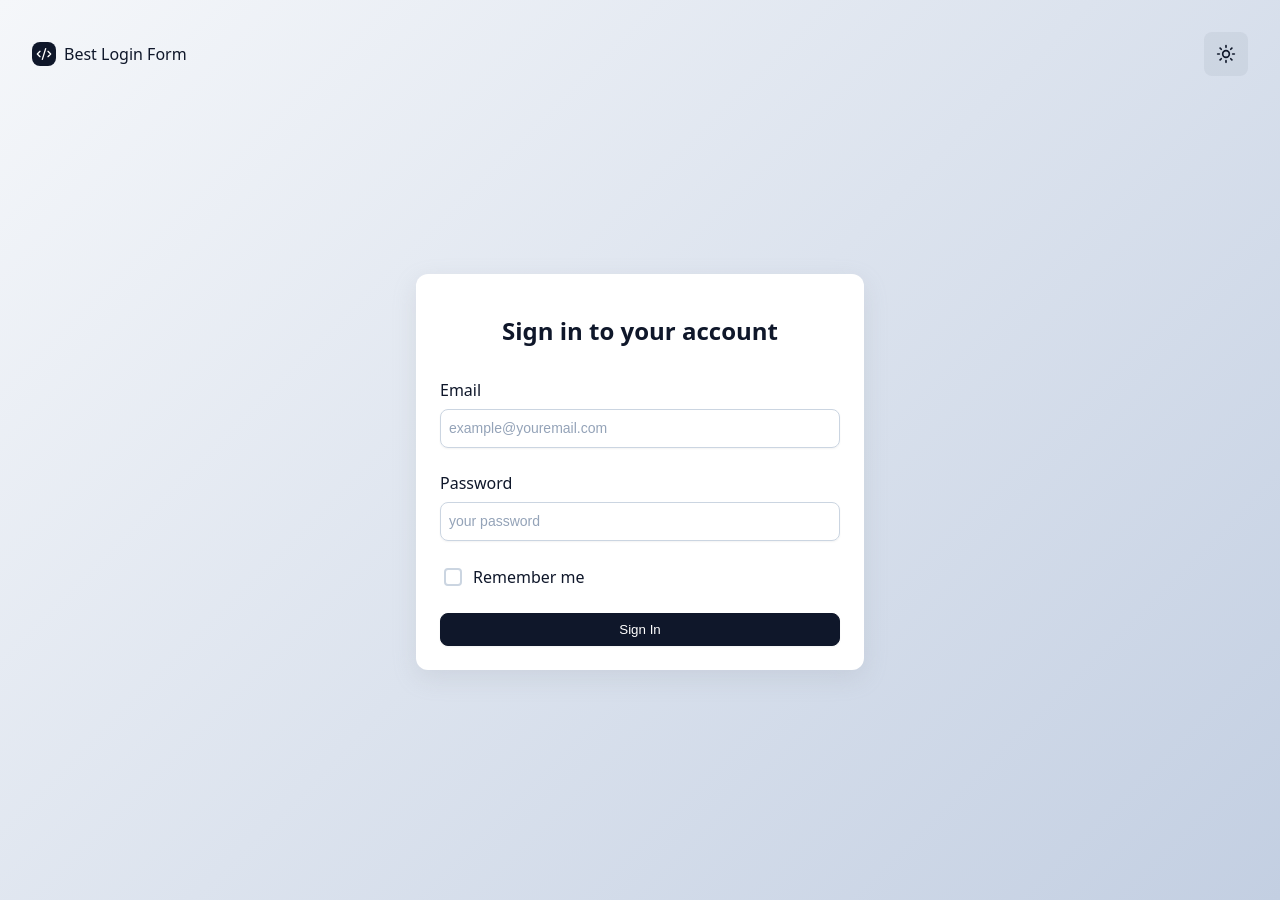
it: LoginPage › displays API error when login fails
Type "test@example.com" into the field labelled "Email" at (640, 429), box [440,409,840,448]
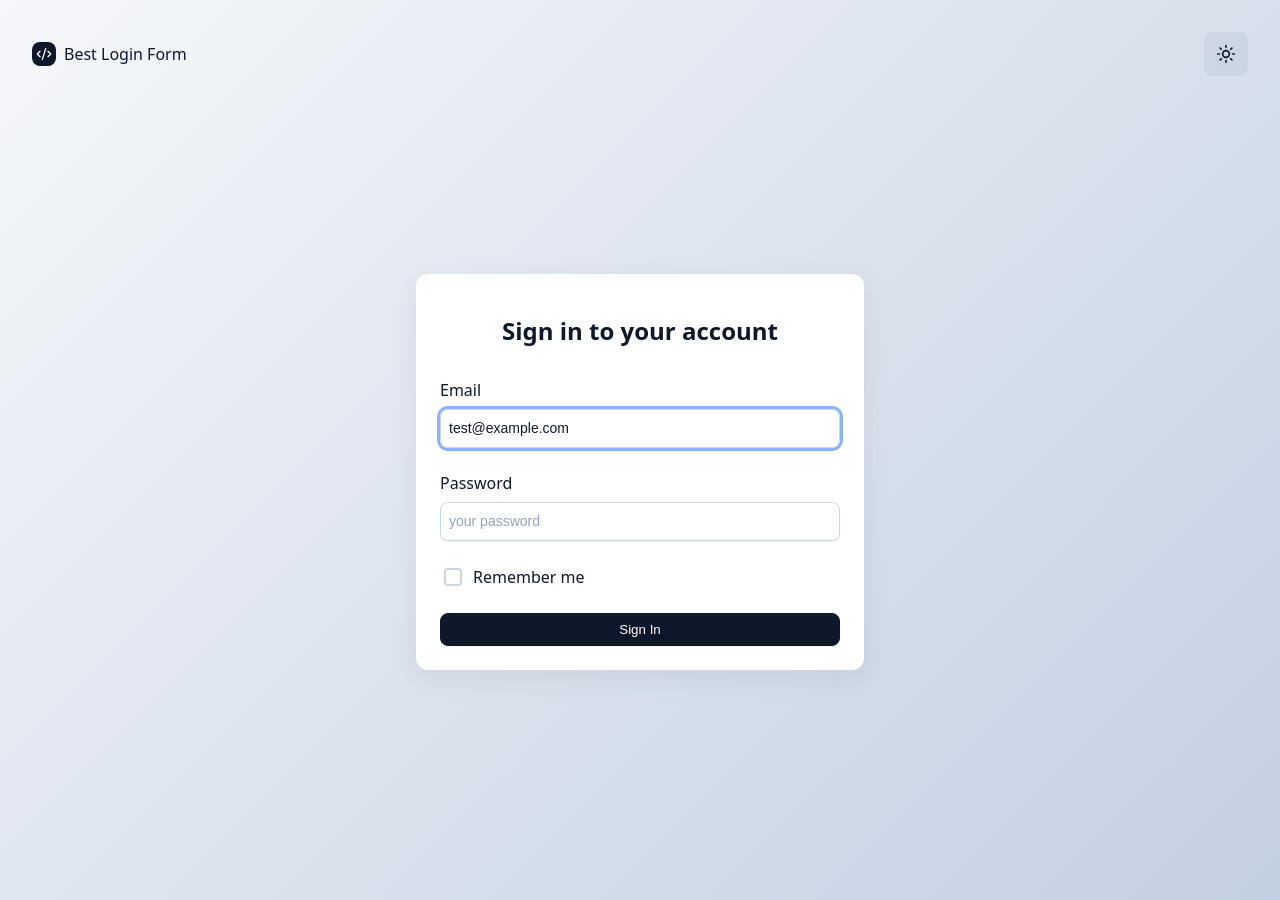
Type "wrong" into the password field labelled "Password" at (640, 522), box [440,502,840,541]
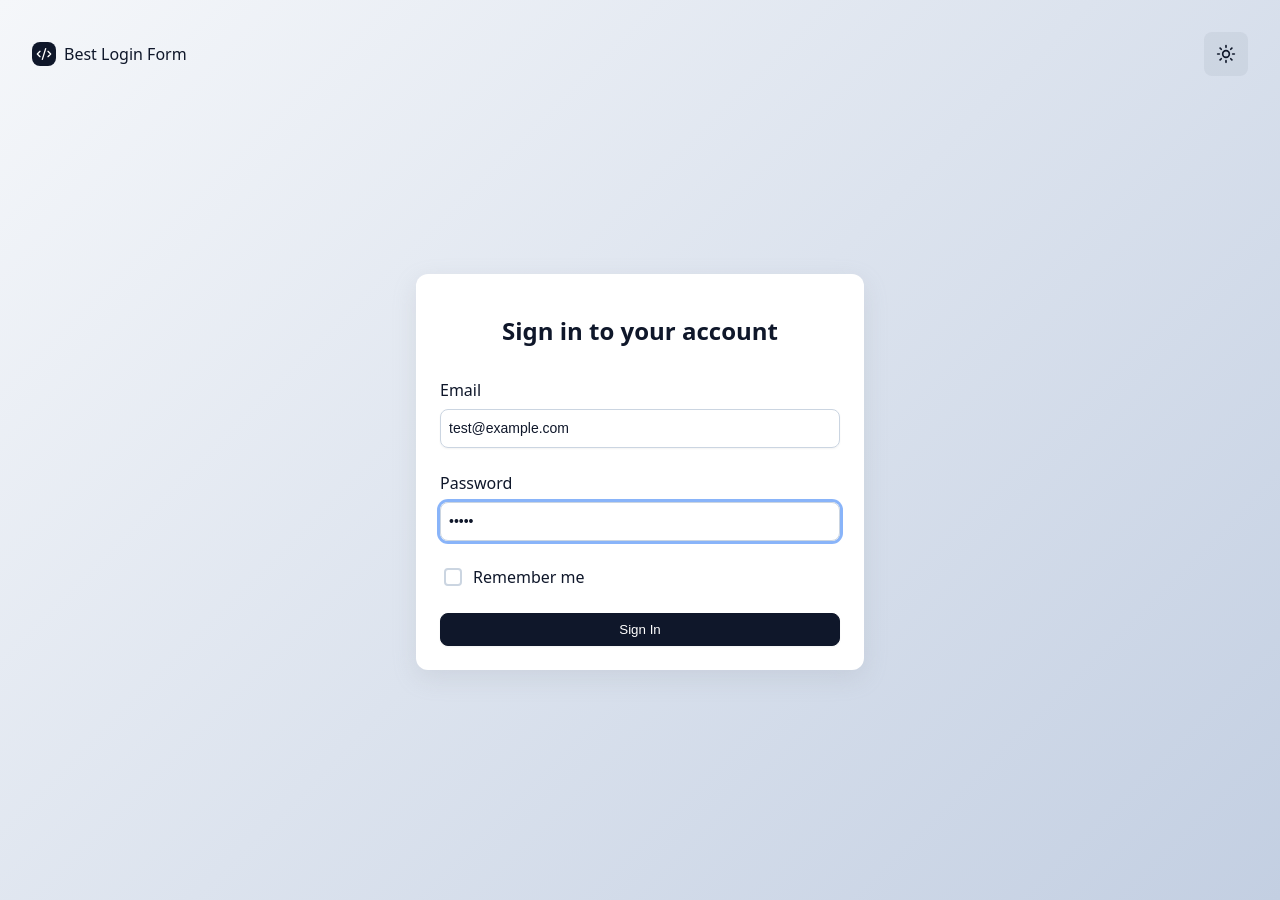
Click the button "Sign In" at (640, 630), box [440,613,840,646]
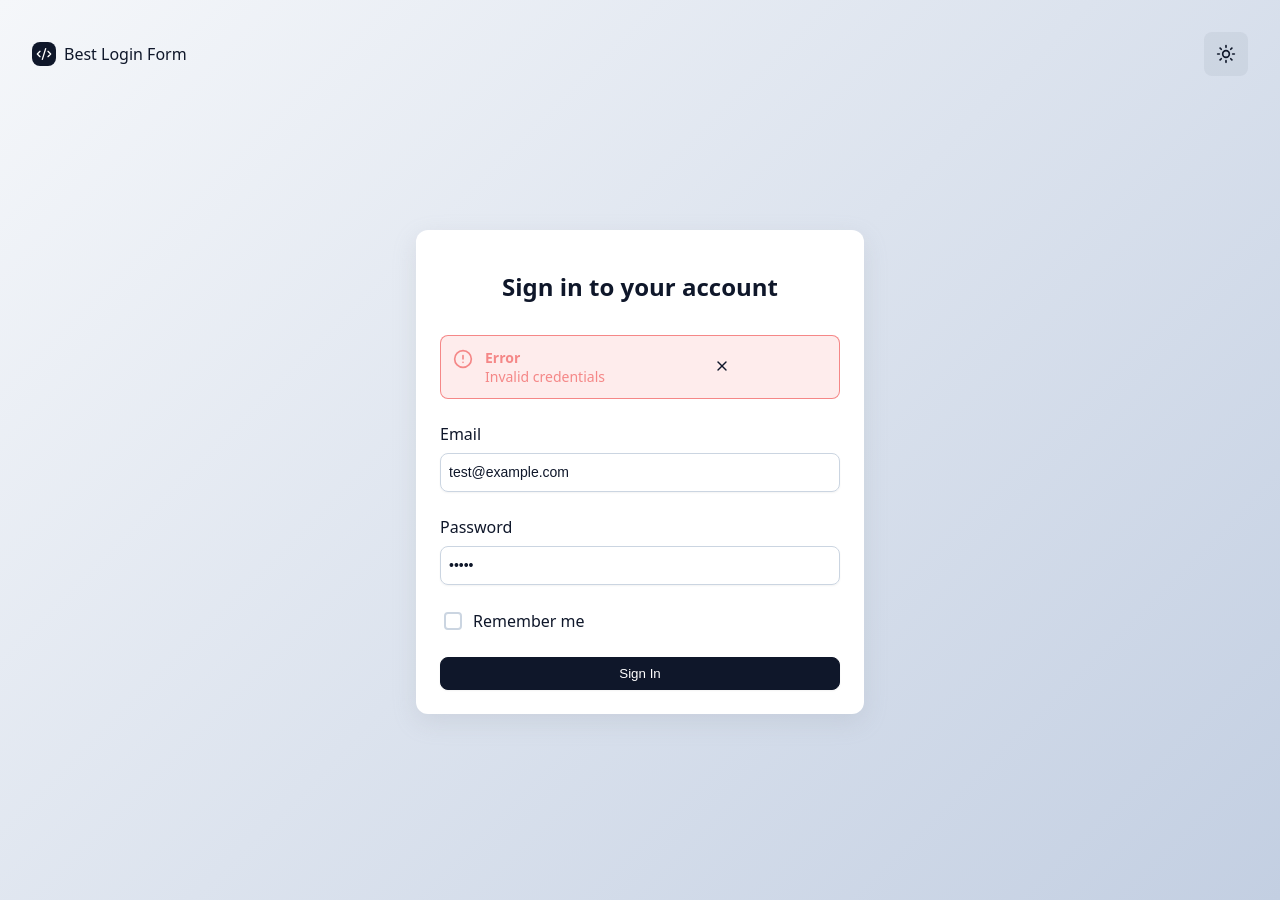
Expected: the text "Error" is shown, [485,348,520,367]
Expected: the text "Invalid credentials" is shown, [485,367,605,386]
